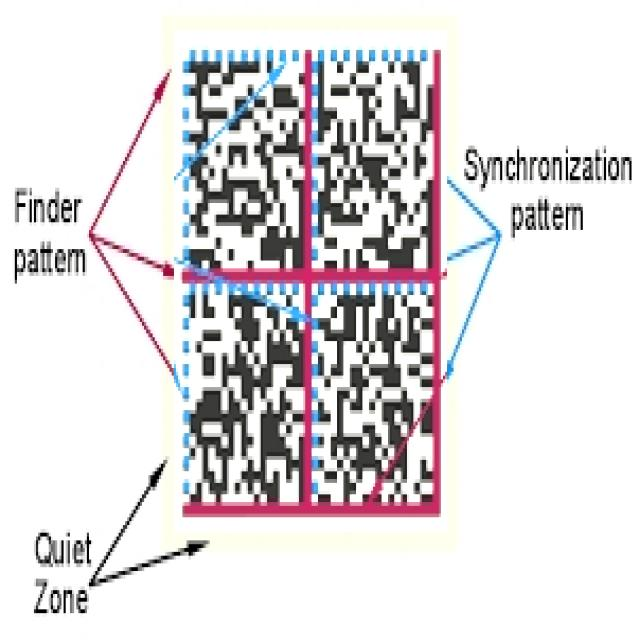DataMatrix: (174, 31, 447, 533)
